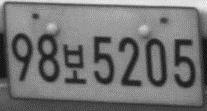0: (145, 37, 167, 86)
2: (117, 36, 142, 87)
5: (173, 38, 196, 88), (92, 35, 115, 84)
8: (37, 34, 59, 82)
9: (9, 32, 33, 82)
보: (62, 42, 87, 84)
